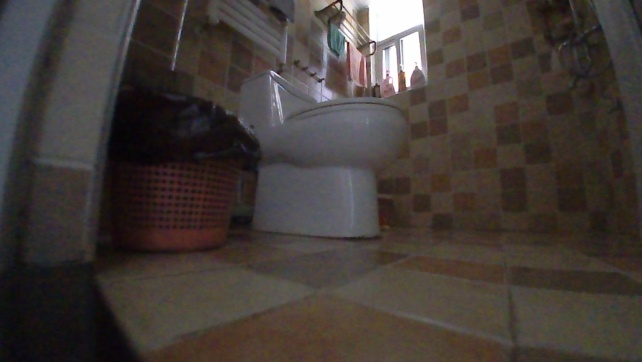toilet: (235, 67, 409, 242)
